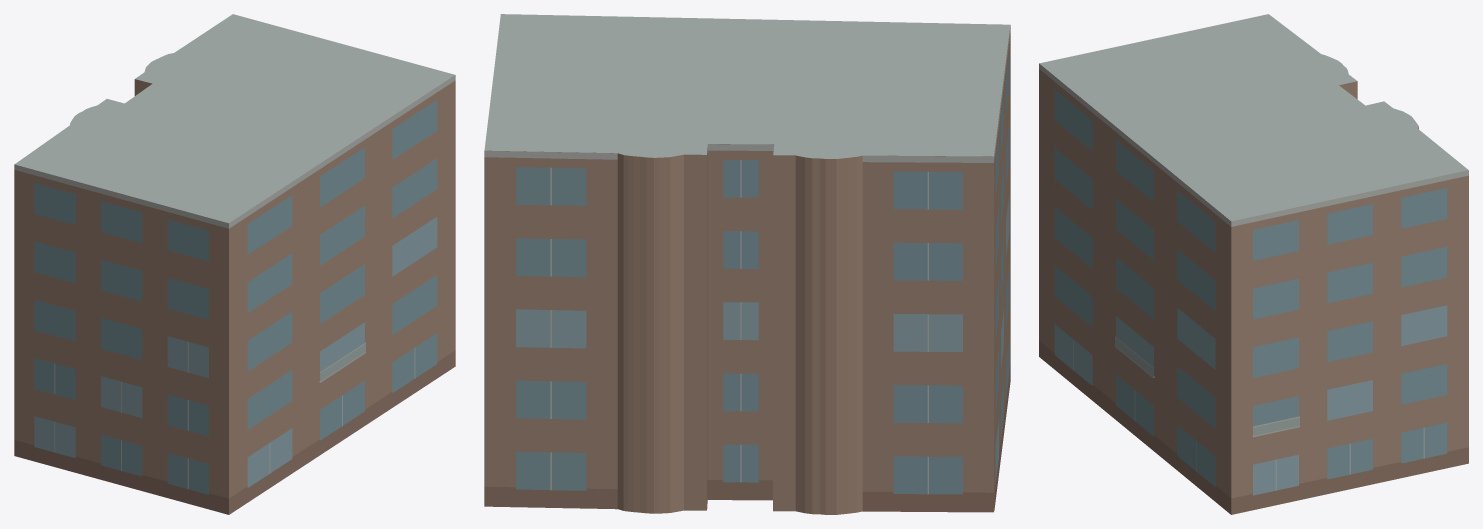
The model's file is survey-upis-32949926.glb.
3 renders of one model, left to right at view 1: azimuth 30°, elevation 25°; view 2: azimuth 150°, elevation 25°; view 3: azimuth 270°, elevation 25°, orthographic. The views are drawn at different scales.
Visible parts, largest first — view 1: survey-upis-32949926.tmp; view 2: survey-upis-32949926.tmp; view 3: survey-upis-32949926.tmp.
Boxes of the visible parts, x1,y1,x2,y2 form: survey-upis-32949926.tmp: (14, 14, 455, 514); survey-upis-32949926.tmp: (484, 14, 1010, 514); survey-upis-32949926.tmp: (1039, 14, 1468, 514).
Size of the model in its own units: 20.03 by 13.2 by 17.53.
